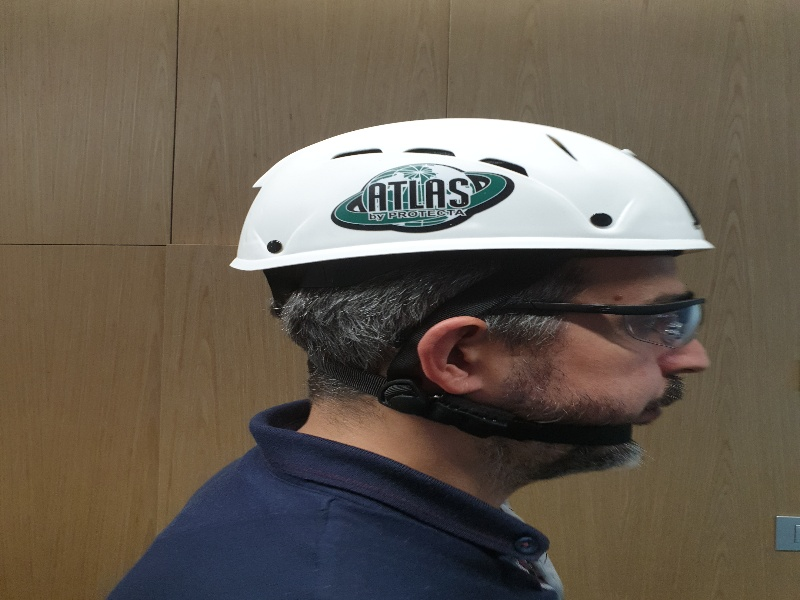Baret: (232, 118, 712, 259)
Gozluk: (467, 297, 707, 356)
